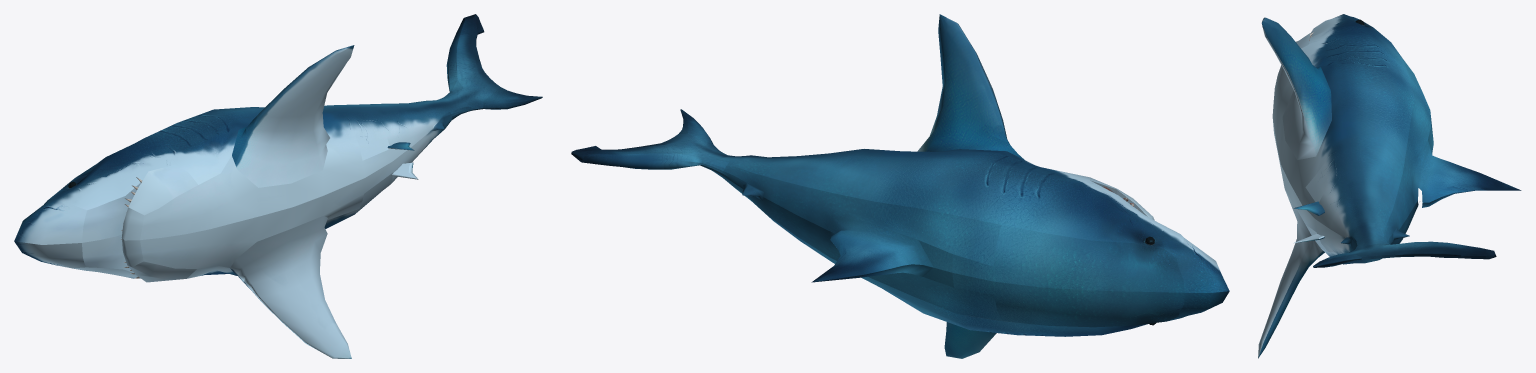
Rendered from Shark.glb.
3 renders of one model, left to right at view 1: azimuth 30°, elevation 25°; view 2: azimuth 150°, elevation 25°; view 3: azimuth 270°, elevation 25°, orthographic. The views are drawn at different scales.
Visible parts, largest first — view 1: Shark_Shark_GEO_GRP bodyGEO polySurface1, Shark_Shark_GEO_GRP bodyGEO littleFinsGEO polySurface1; view 2: Shark_Shark_GEO_GRP bodyGEO polySurface1; view 3: Shark_Shark_GEO_GRP bodyGEO polySurface1, Shark_Shark_GEO_GRP bodyGEO littleFinsGEO polySurface1.
Boxes of the visible parts, bbox=[...] form: Shark_Shark_GEO_GRP bodyGEO polySurface1: bbox=[14, 14, 542, 358]; Shark_Shark_GEO_GRP bodyGEO littleFinsGEO polySurface1: bbox=[387, 142, 418, 179]; Shark_Shark_GEO_GRP bodyGEO polySurface1: bbox=[571, 14, 1229, 358]; Shark_Shark_GEO_GRP bodyGEO polySurface1: bbox=[1258, 14, 1521, 358]; Shark_Shark_GEO_GRP bodyGEO littleFinsGEO polySurface1: bbox=[1293, 201, 1324, 243].
Size of the model in its own units: 14.49 by 8.13 by 5.76.
1 material, 1 textured.
